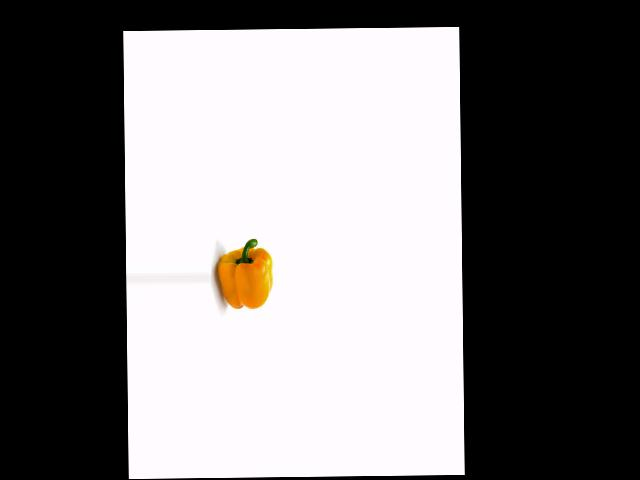bell_pepper: (217, 232, 275, 311)
